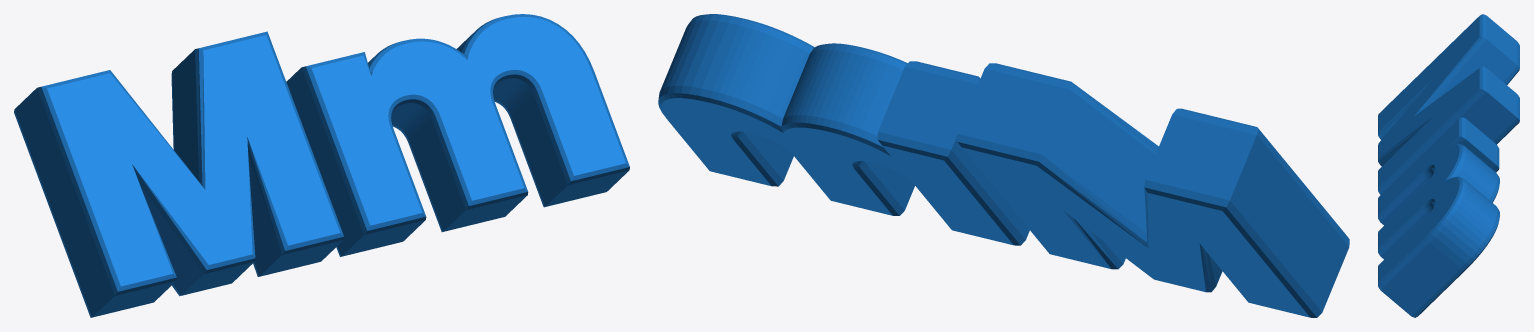
3 renders of one model, left to right at view 1: azimuth 30°, elevation 25°; view 2: azimuth 150°, elevation 25°; view 3: azimuth 270°, elevation 25°, orthographic. The views are drawn at different scales.
Parts seen in each view (by area): view 1: letter; view 2: letter; view 3: letter.
Boxes of the visible parts, left/top/right/bottom form: letter: left=14, top=14, right=629, bottom=317; letter: left=658, top=14, right=1349, bottom=317; letter: left=1378, top=14, right=1519, bottom=317.
Bounding box in the file's own units: 2.68 × 0.9716 × 0.9377.
